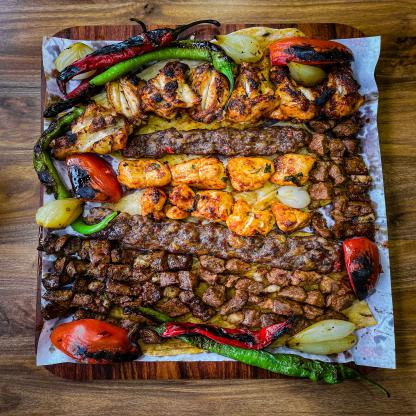Carne: (129, 126, 310, 159), (303, 273, 364, 308), (288, 235, 353, 263), (152, 219, 203, 254), (83, 266, 134, 299), (218, 242, 282, 268), (138, 260, 177, 287)
